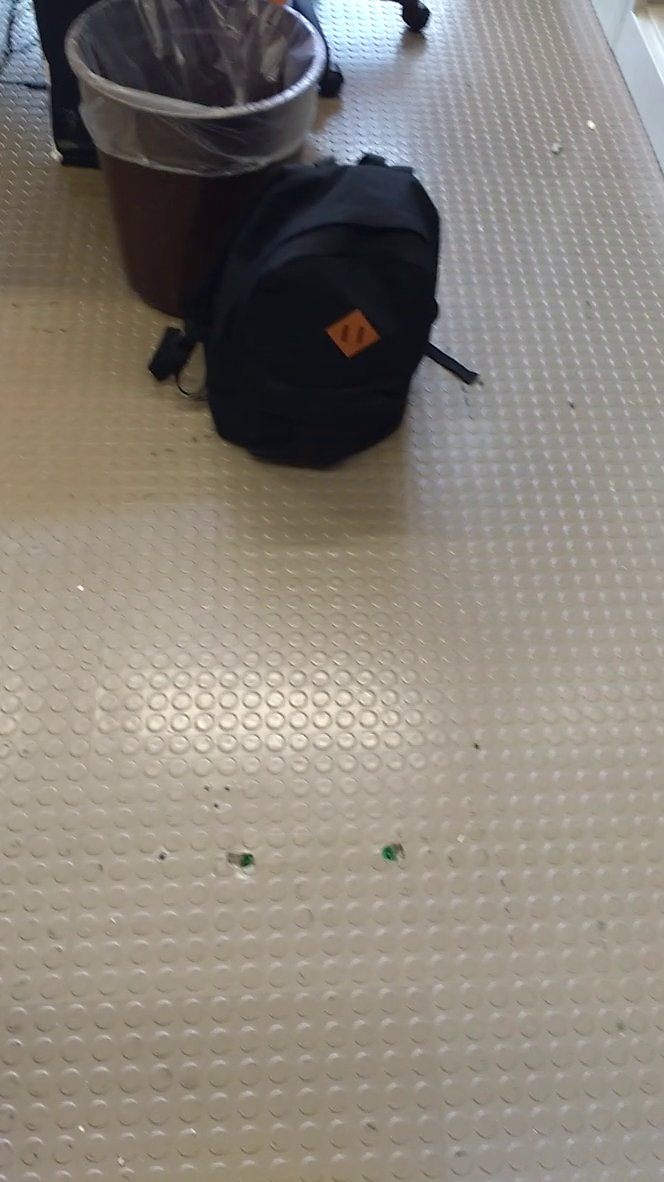bag: (132, 145, 484, 479)
bin: (60, 2, 338, 256)
